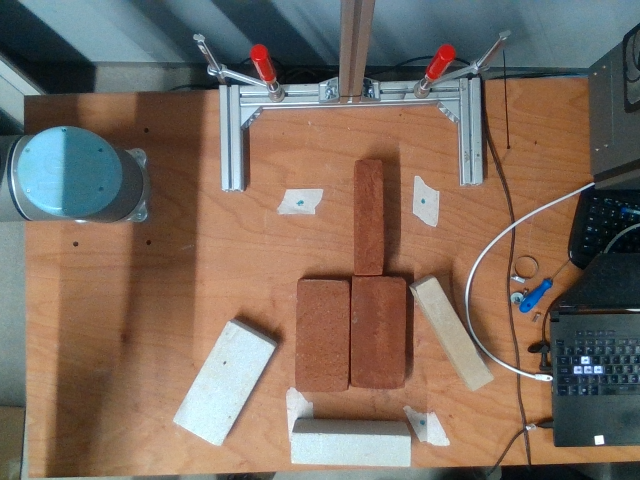brick: (353, 279, 405, 388), (298, 281, 347, 390)
brick-side: (173, 322, 275, 447), (414, 279, 492, 391), (292, 436, 409, 466), (356, 161, 382, 273)
